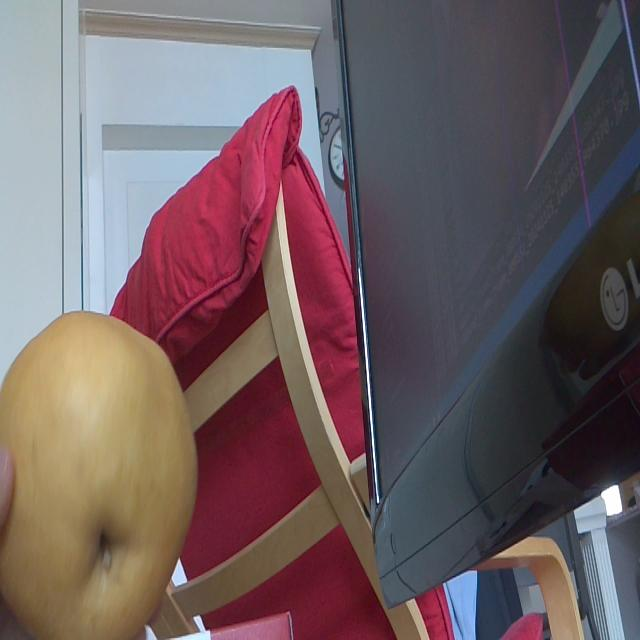pear: (1, 312, 198, 640)
